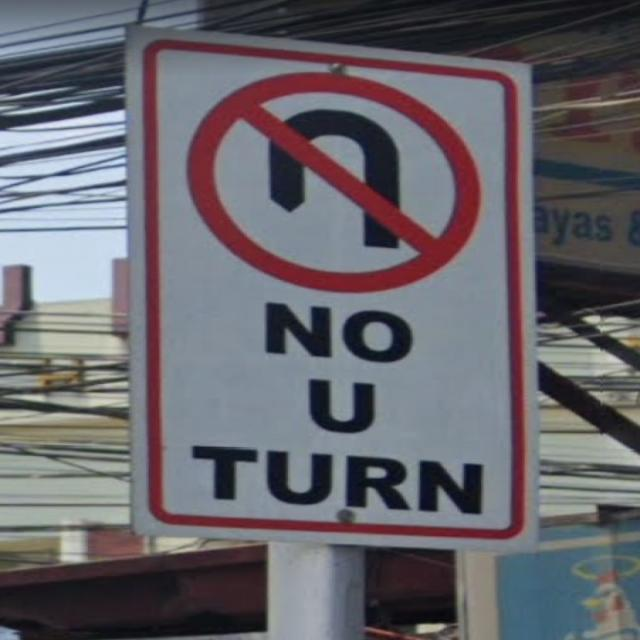no u turn: (188, 73, 483, 290)
